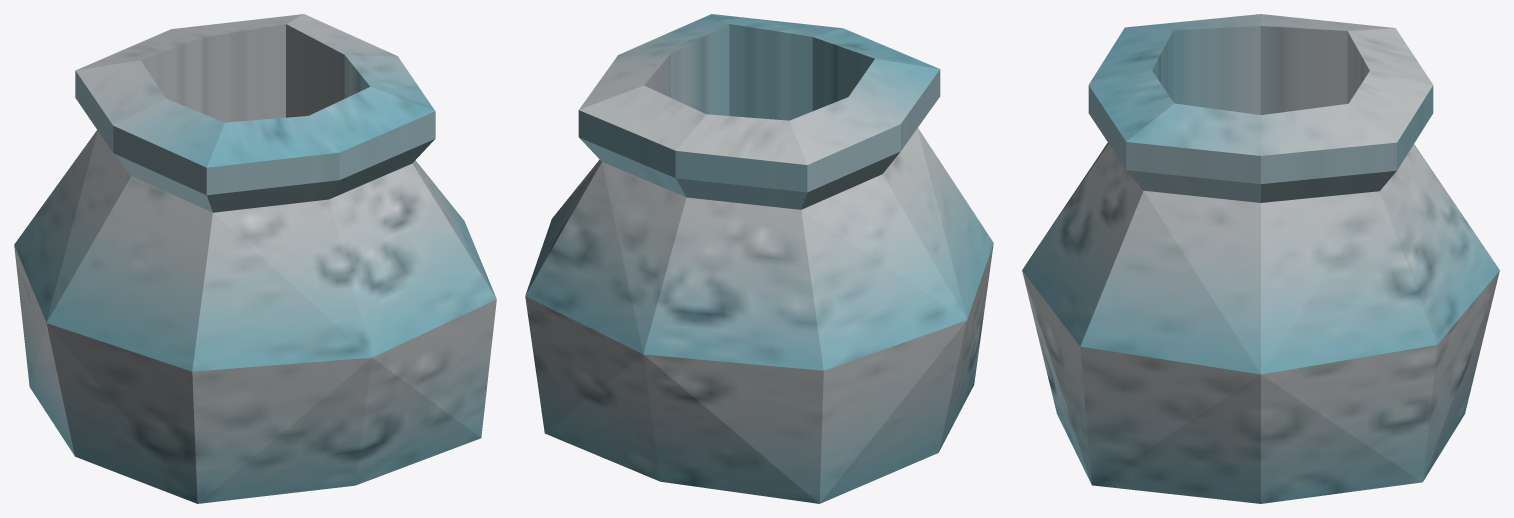
Rendered from AquaRium (2).fbx.
The picture shows the model from 3 angles, left to right: view 1: azimuth 30°, elevation 25°; view 2: azimuth 150°, elevation 25°; view 3: azimuth 270°, elevation 25°; orthographic projection. The views are drawn at different scales.
Visible parts, largest first — view 1: Cube; view 2: Cube; view 3: Cube.
Part boxes in pixels (box(x1,y1,x2,y2)): Cube: box(14, 14, 496, 503); Cube: box(525, 14, 993, 503); Cube: box(1022, 14, 1499, 503).
Bounding box in the file's own units: 722 × 560 × 699.
1 material, 1 textured.
